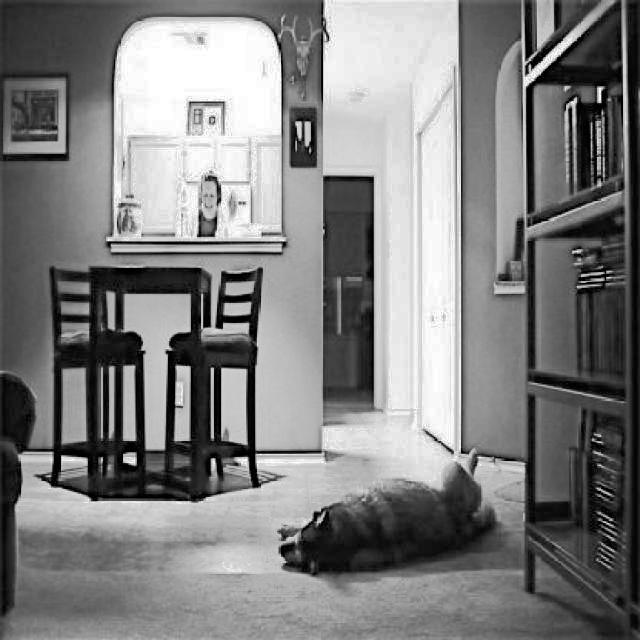Dog: (272, 443, 503, 583)
